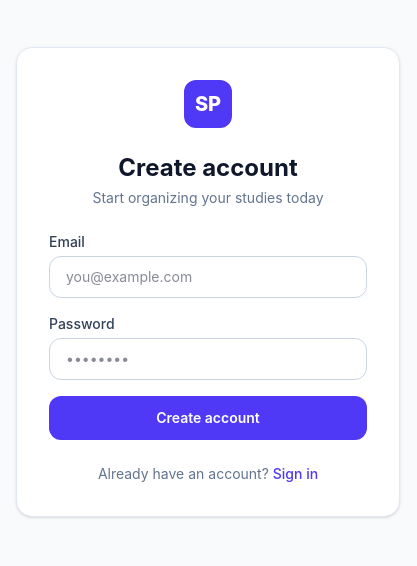
CreateAccountPage › shows an error when email is invalid
Type "notanemail" into the field labelled "Email" at (208, 277), box [49,256,367,298]
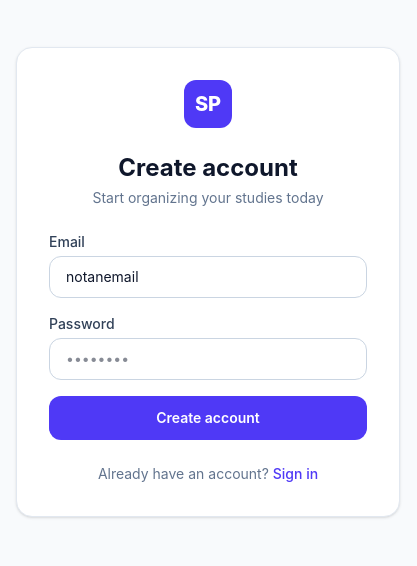
Type "secret1" into the password field labelled "Password" at (208, 359), box [49,338,367,380]
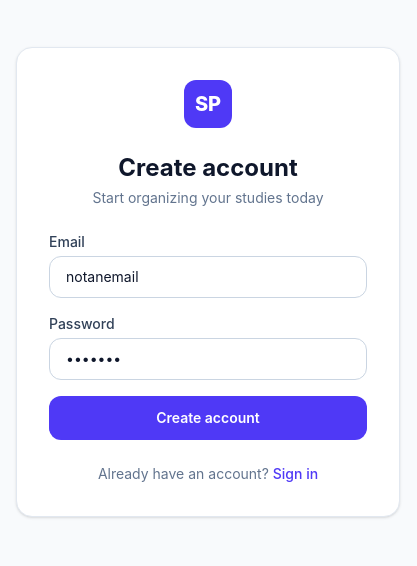
Click the button "Create account" at (208, 418), box [49,396,367,440]
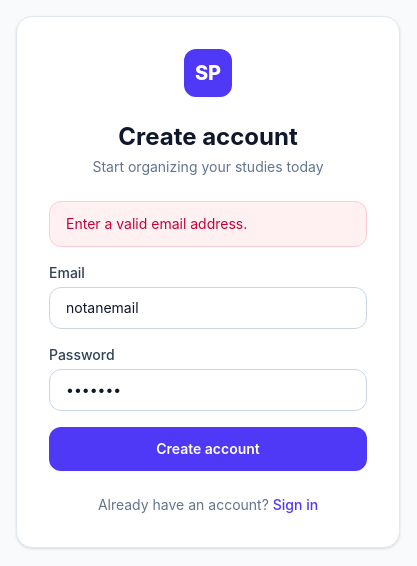
expect the message reads "Enter a valid email address.": met, box [66,215,247,232]
